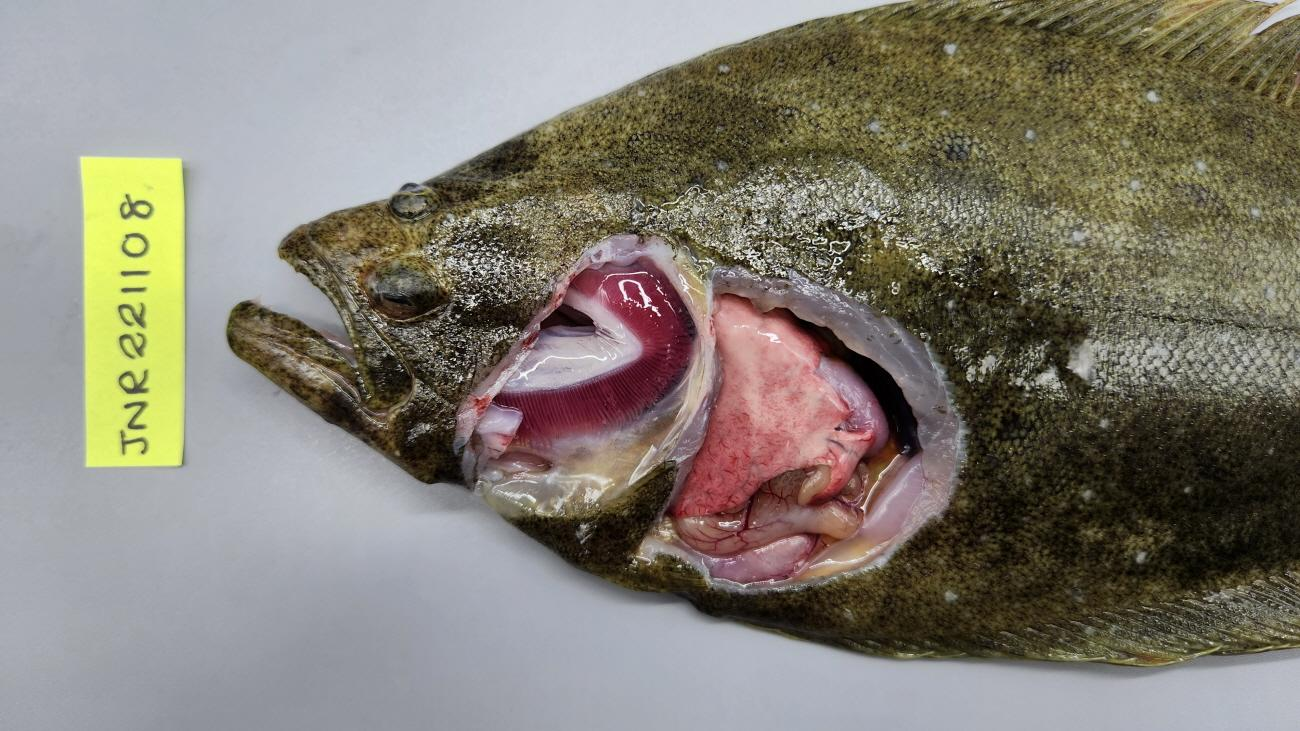POGIN: (491, 255, 693, 452)
